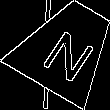N_NE: (35, 16, 99, 80)
